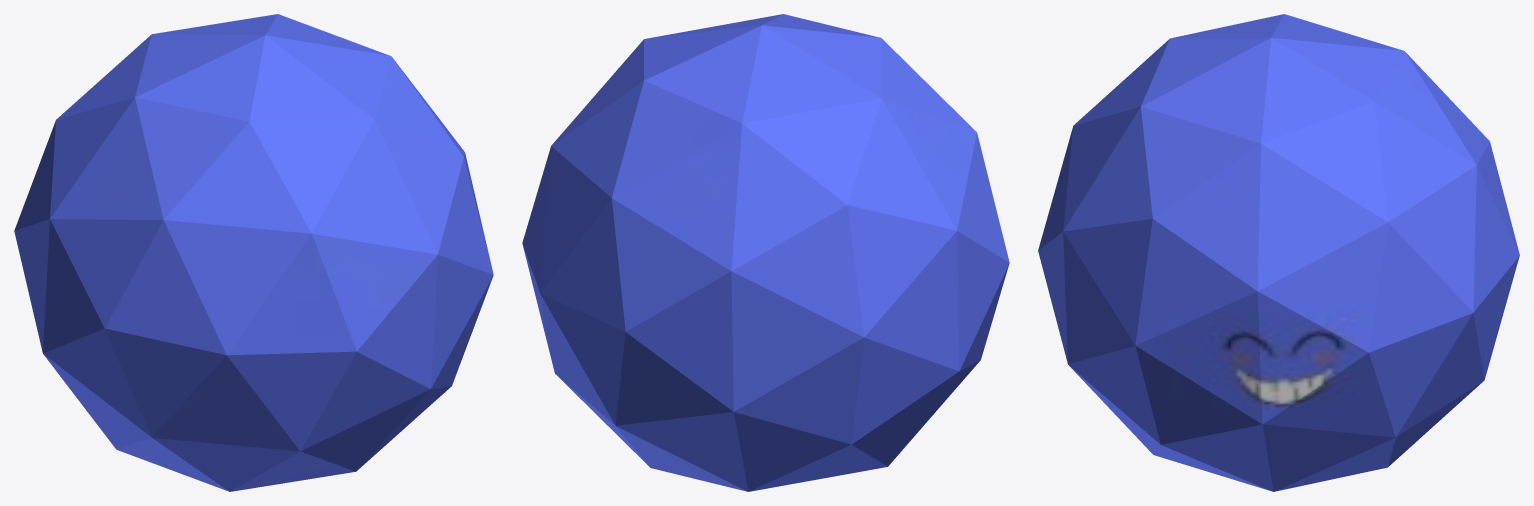
File: smile.dae
The picture shows the model from 3 angles, left to right: view 1: azimuth 30°, elevation 25°; view 2: azimuth 150°, elevation 25°; view 3: azimuth 270°, elevation 25°; orthographic projection.
Visible parts, largest first — view 1: Icosphere; view 2: Icosphere; view 3: Icosphere.
Part boxes in pixels (x1,y1,x2,y2): Icosphere: [14, 14, 493, 491]; Icosphere: [522, 14, 1009, 491]; Icosphere: [1038, 14, 1519, 491].
Bounding box in the file's own units: 0.2529 × 0.2629 × 0.2636.
1 material, 1 textured.
